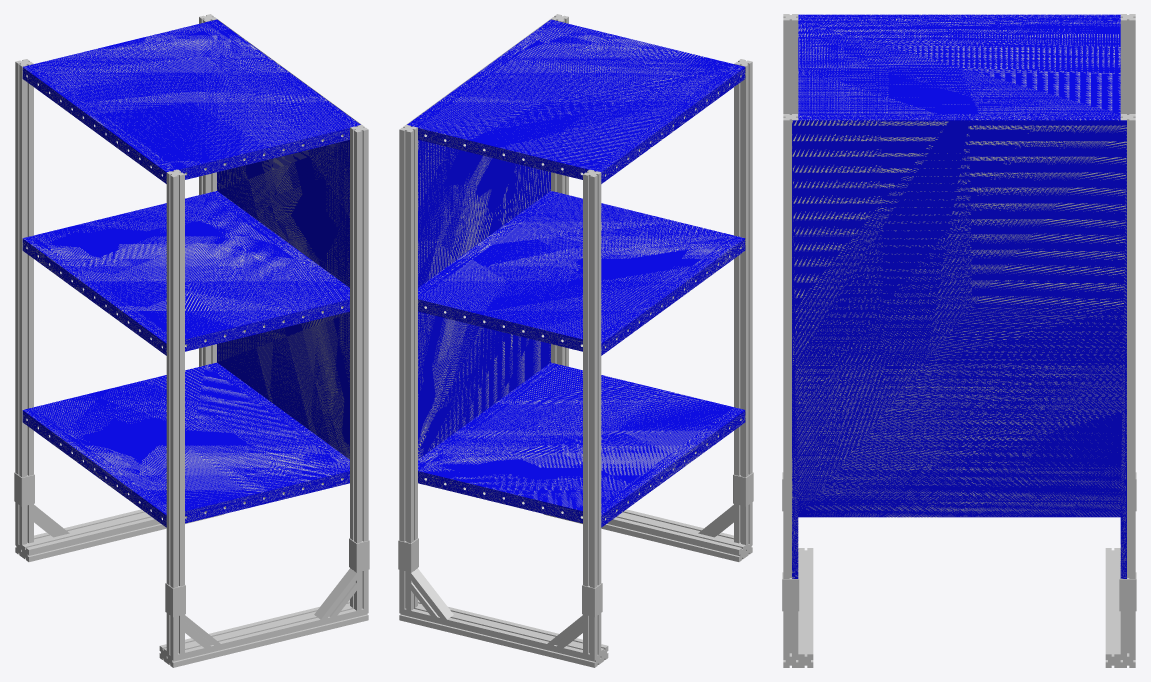
File: mobile_rack.dae
3 renders of one model, left to right at view 1: azimuth 30°, elevation 25°; view 2: azimuth 150°, elevation 25°; view 3: azimuth 270°, elevation 25°, orthographic. The views are drawn at different scales.
Parts seen in each view (by area): view 1: SketchUp (×9); view 2: SketchUp (×9); view 3: SketchUp (×8).
Boxes of the visible parts, <box> form: SketchUp (×9): <box>14,14,369,667</box>; SketchUp (×9): <box>398,14,753,667</box>; SketchUp (×8): <box>782,14,1136,667</box>.
Size of the model in its own units: 19.84 by 27.72 by 47.24.
